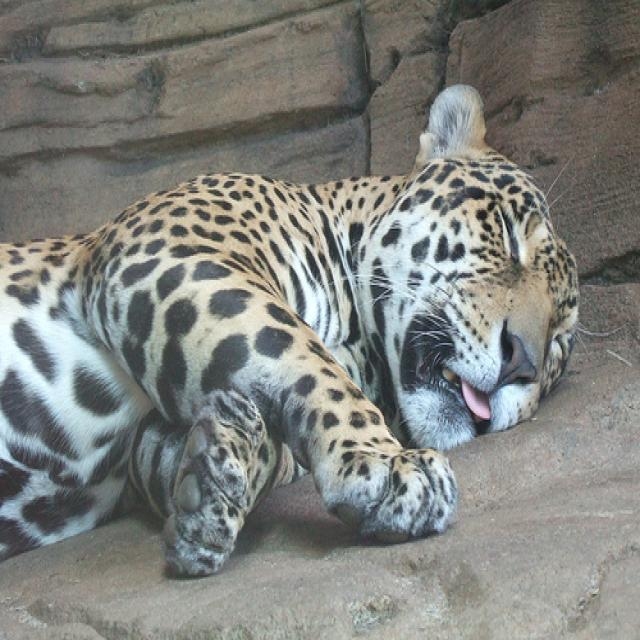Leopard: (0, 80, 580, 579)
